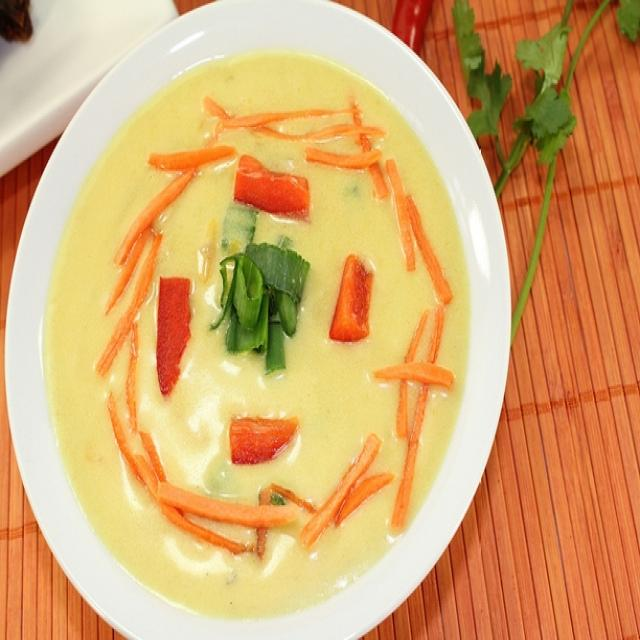汤锅炖物: (45, 39, 461, 607)
